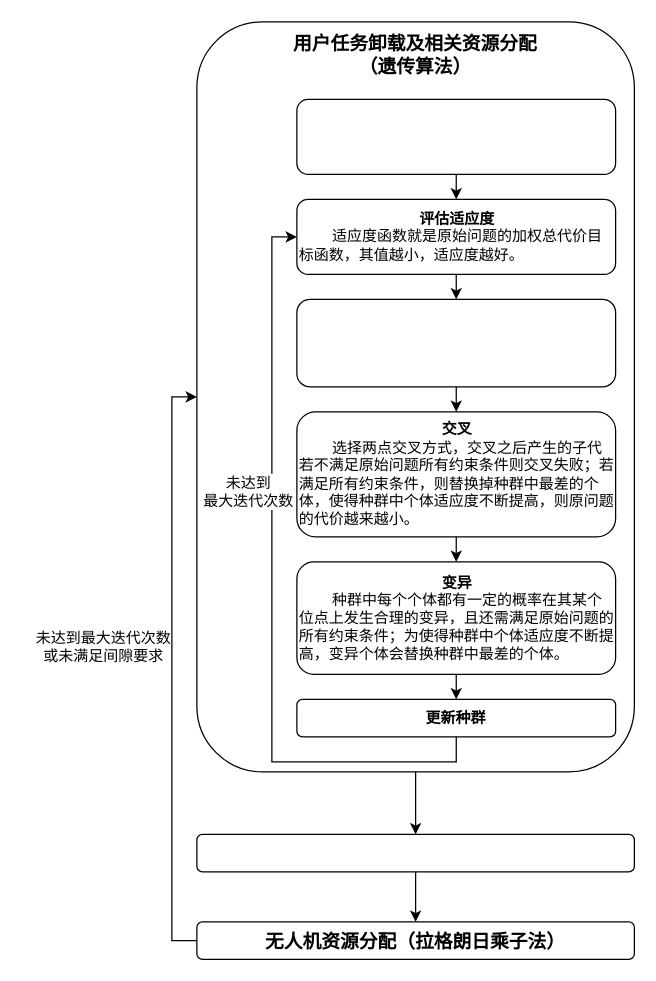
This 656x981 diagram has some shape labels left out. The shapes that lost their labels are listed below. From the top down, each one's centre as x and y in pixels, then its label:
At (456,136): "种群初始化 初始化的每个个体必须满足时延约束、计算能力约束等原始问题的约束。".
At (456,342): "选择 对传统的轮盘赌选择算法做了改进，使得适应度值越小（即代价越小）的个体能以更大的概率被选中。".
At (415,852): "无人机卸载（内点法）".
